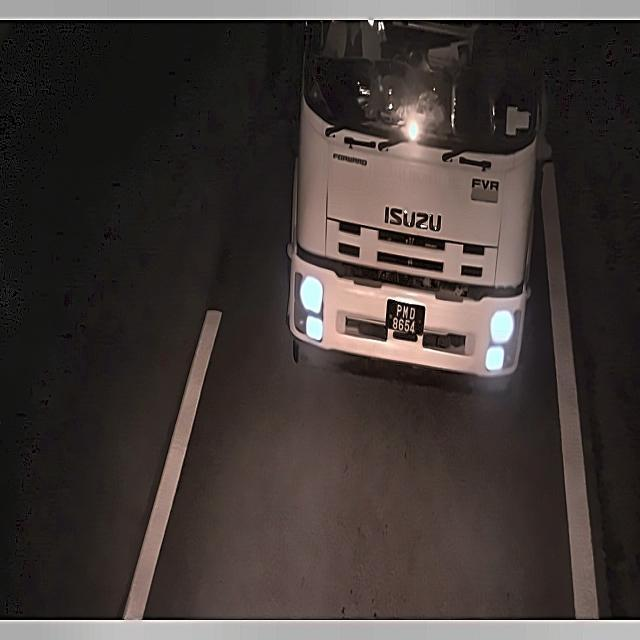car: (383, 292, 427, 343)
